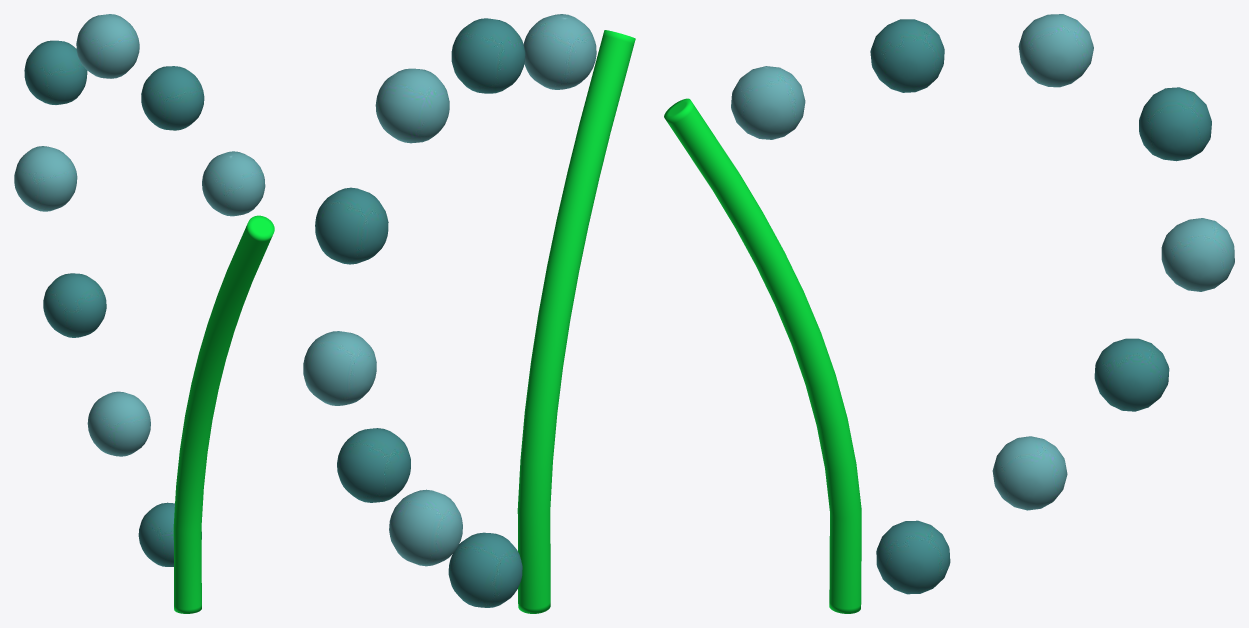
3 renders of one model, left to right at view 1: azimuth 30°, elevation 25°; view 2: azimuth 150°, elevation 25°; view 3: azimuth 270°, elevation 25°, orthographic. The views are drawn at different scales.
Parts seen in each view (by area): view 1: D; view 2: D; view 3: D.
Boxes of the visible parts, bbox=[...] form: D: bbox=[14, 14, 274, 613]; D: bbox=[303, 14, 635, 613]; D: bbox=[664, 14, 1234, 613].
Size of the model in its own units: 0.1071 by 0.9865 by 0.8539.
Materials: 1 (1 with a texture image).
